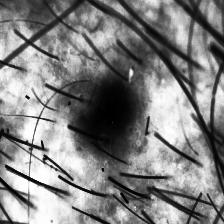Benign Marking or Mole: (82, 80, 137, 146)
